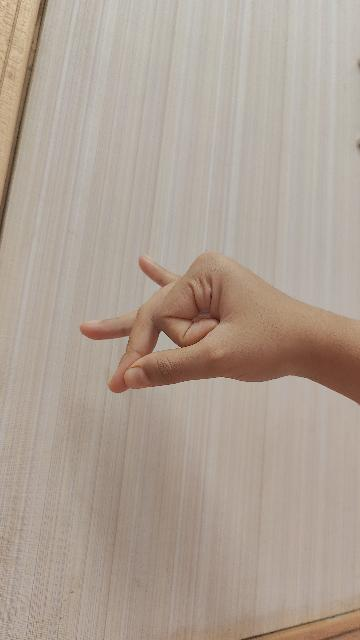bhramara: (83, 252, 360, 408)
